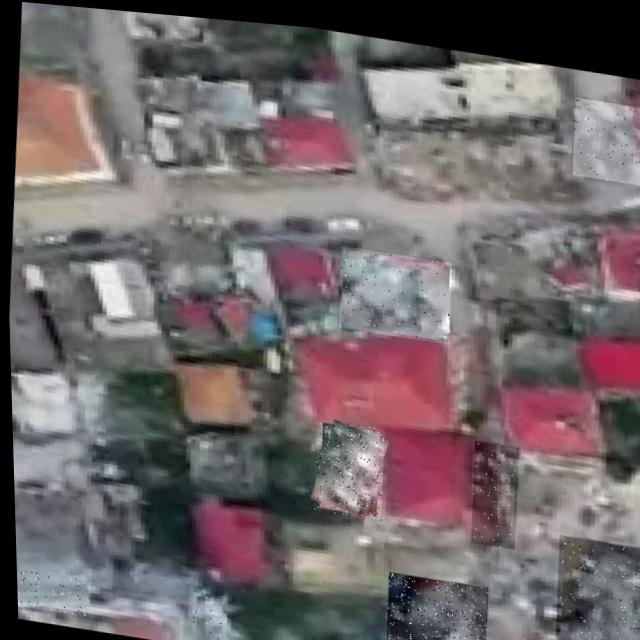Rubble: (335, 238, 452, 335), (544, 522, 640, 640), (380, 563, 486, 640), (309, 411, 384, 513), (569, 84, 640, 172), (465, 430, 518, 539), (13, 566, 85, 614), (185, 587, 226, 640)
